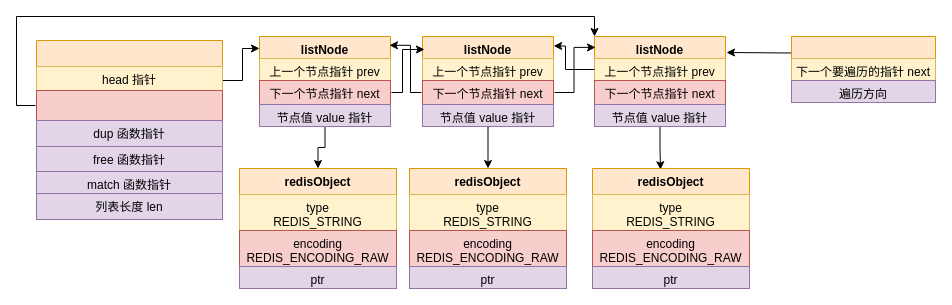
This 952x305 diagram has some shape labels left out. Each missing label, with the box of its shape:
list: (36, 40, 222, 120)
listIter: (790, 36, 936, 102)
tail 指针: (36, 90, 222, 120)
